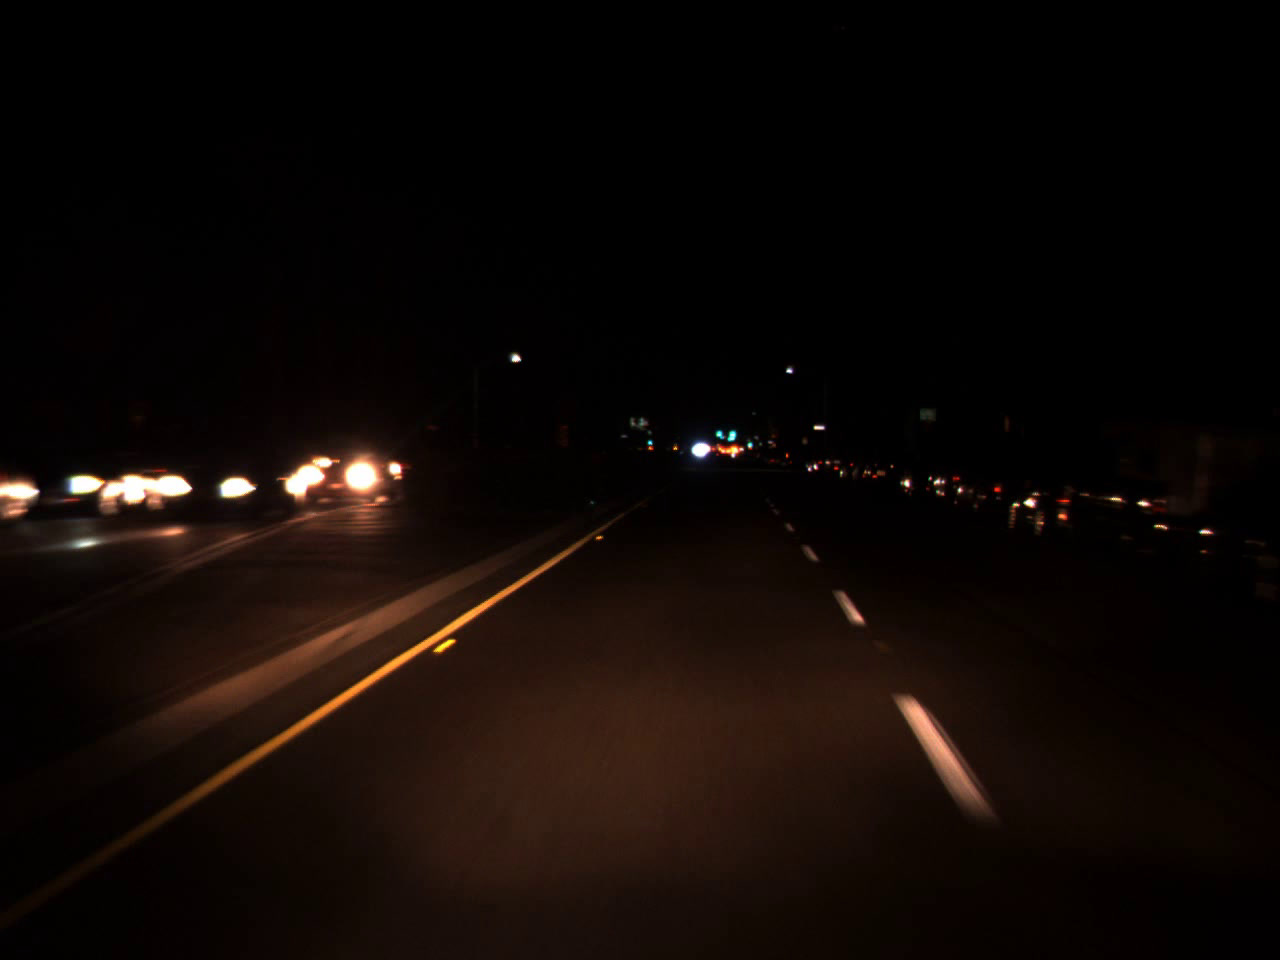go: (722, 415, 740, 445), (711, 413, 725, 443), (744, 433, 753, 448), (646, 435, 653, 447)
